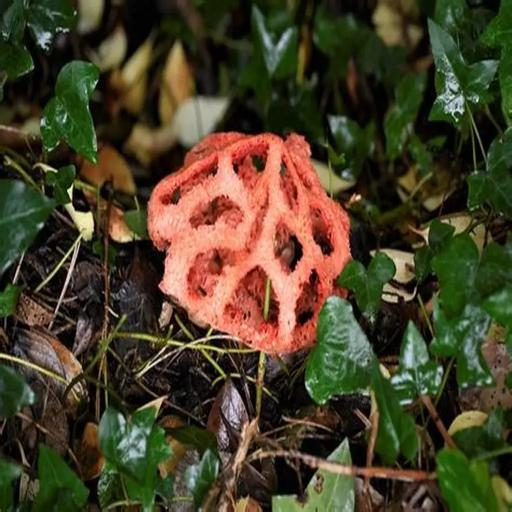Red Cage Fungus: (144, 120, 356, 356)
